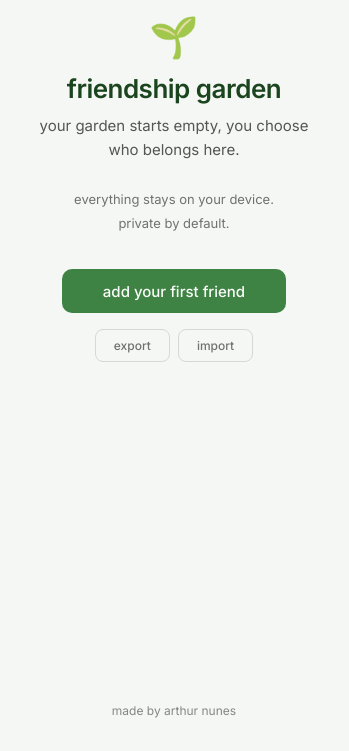
Test case: App › adding a friend › adds a friend and shows them in the garden
The image size is (349, 751).
Click the button "add your first friend". click: (174, 291)
box: [62,269,286,313]
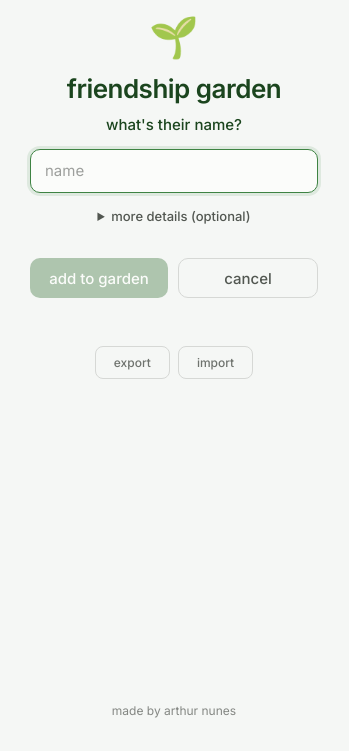
Type "Alice" into the field labelled "what's their name?". click: (174, 170)
box: [30,148,318,192]
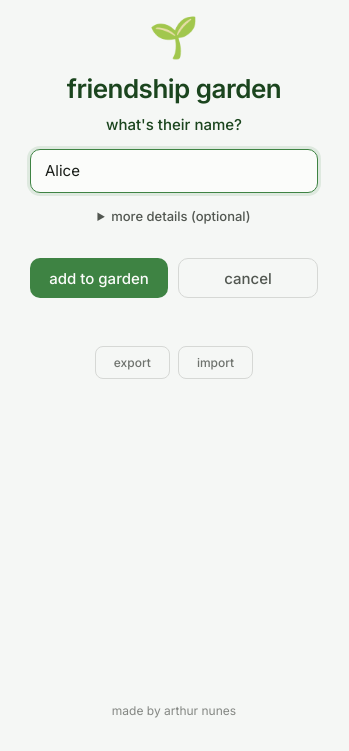
Click the button "add to garden". click: (99, 278)
box: [30,258,168,298]
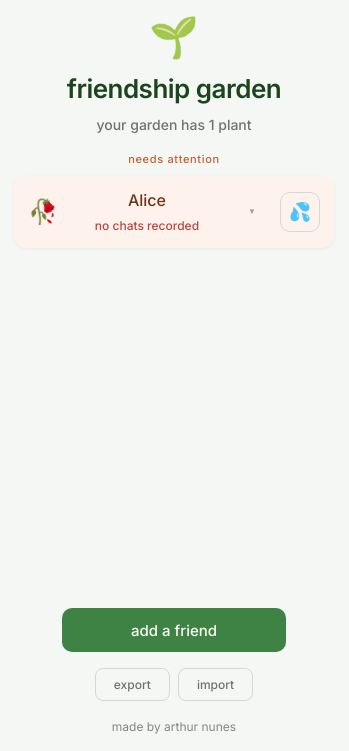
Expected: the text "your garden starts empty" is not shown
Expected: the text "Alice" is shown, [128,190,166,210]
